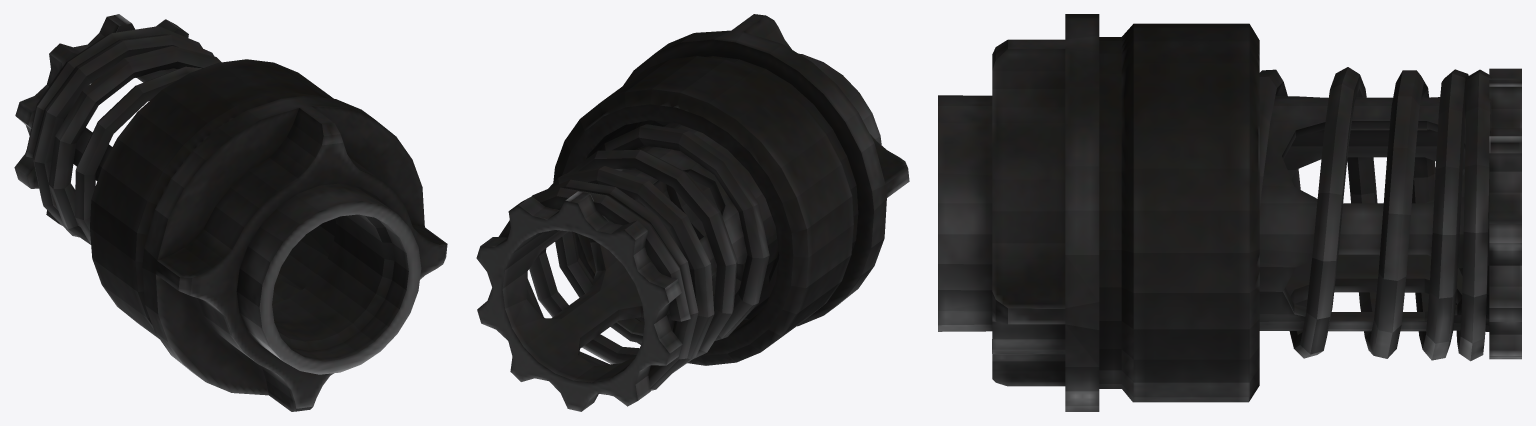
3 renders of one model, left to right at view 1: azimuth 30°, elevation 25°; view 2: azimuth 150°, elevation 25°; view 3: azimuth 270°, elevation 25°, orthographic. The views are drawn at different scales.
Visible parts, largest first — view 1: TW_5fc4b97bab884124df0cd5e3_PZ_Import; view 2: TW_5fc4b97bab884124df0cd5e3_PZ_Import; view 3: TW_5fc4b97bab884124df0cd5e3_PZ_Import.
Boxes of the visible parts, box(x1,y1,x2,y2) form: TW_5fc4b97bab884124df0cd5e3_PZ_Import: box(14, 14, 447, 411); TW_5fc4b97bab884124df0cd5e3_PZ_Import: box(476, 14, 909, 411); TW_5fc4b97bab884124df0cd5e3_PZ_Import: box(938, 14, 1521, 411).
Bounding box in the file's own units: 0.0179 × 0.0264 × 0.0179.
Materials: 1 (1 with a texture image).
